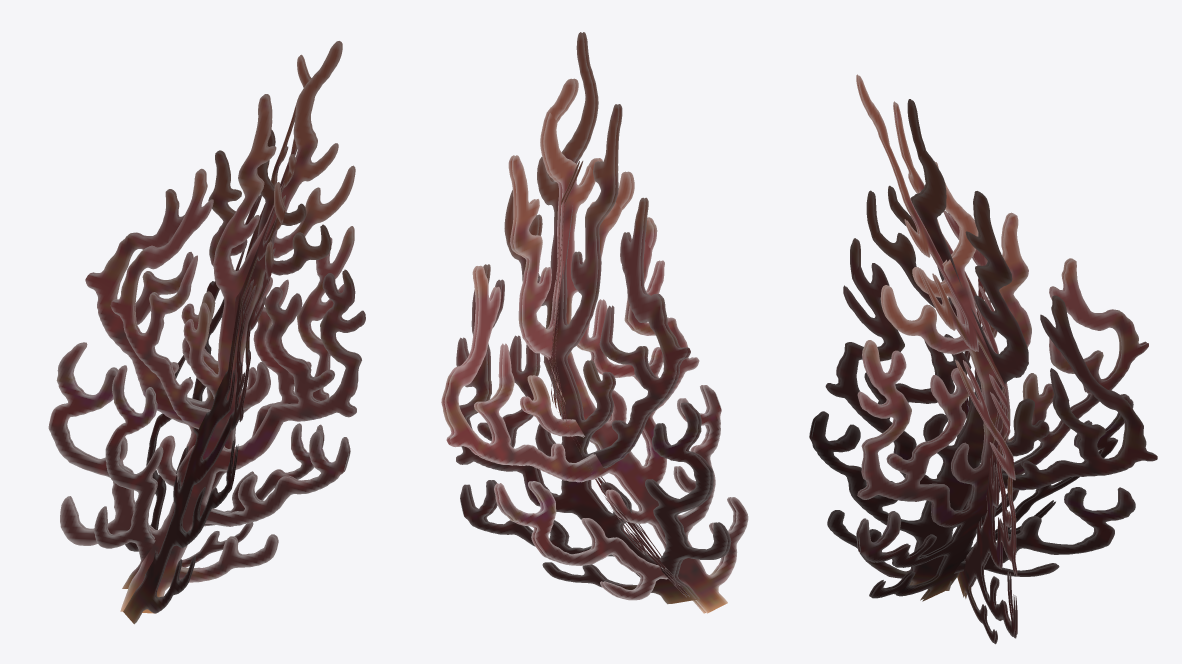
The model's file is h5_zhibei_b.FBX.
3 renders of one model, left to right at view 1: azimuth 30°, elevation 25°; view 2: azimuth 150°, elevation 25°; view 3: azimuth 270°, elevation 25°, orthographic. The views are drawn at different scales.
Parts seen in each view (by area): view 1: h5_zhibei_b; view 2: h5_zhibei_b; view 3: h5_zhibei_b.
Boxes of the visible parts, x1,y1,x2,y2 form: h5_zhibei_b: (48, 41, 365, 624); h5_zhibei_b: (441, 32, 748, 613); h5_zhibei_b: (809, 74, 1157, 644).
Bounding box in the file's own units: 0.9143 × 1.59 × 0.8044.
